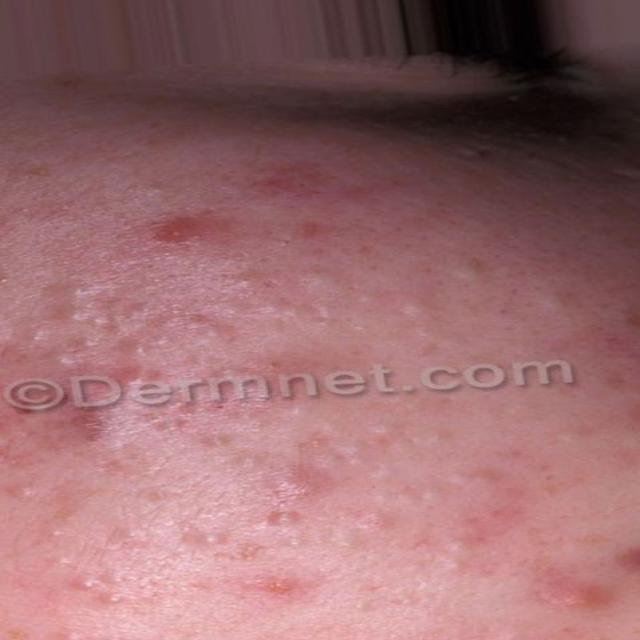Acne: (150, 154, 422, 290), (425, 475, 605, 612), (119, 470, 302, 601)
